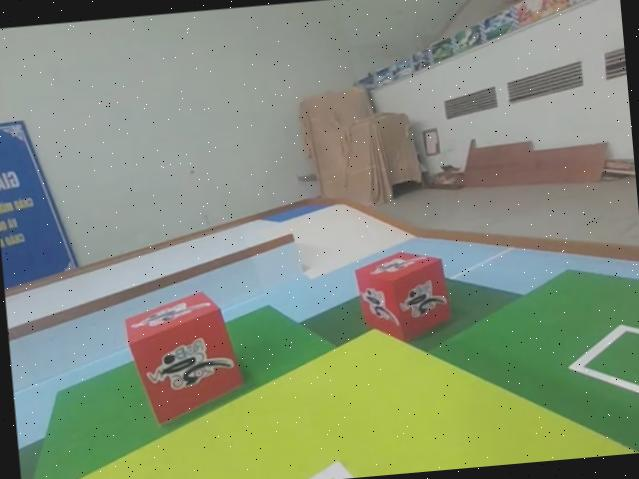R1: (117, 283, 248, 429), (349, 245, 457, 350)
